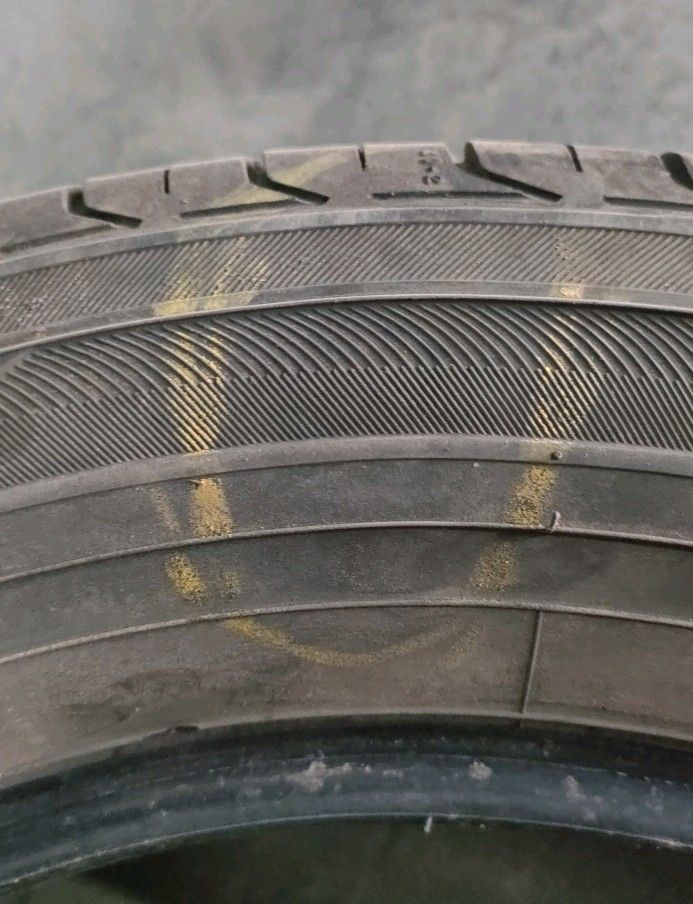CBU: (209, 186, 591, 521)
